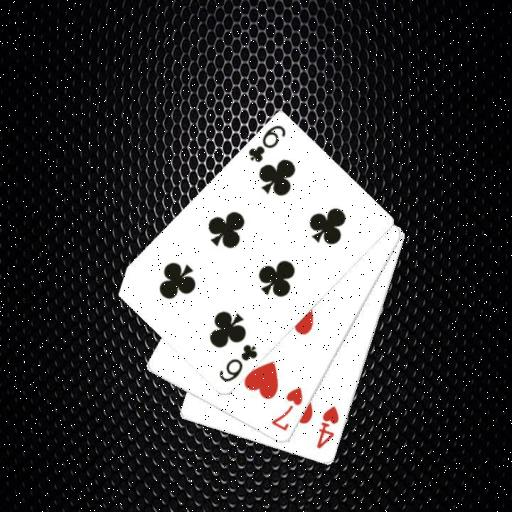4H: (314, 403, 341, 451)
6C: (216, 342, 260, 384), (245, 123, 287, 165)
7H: (268, 384, 304, 433)
